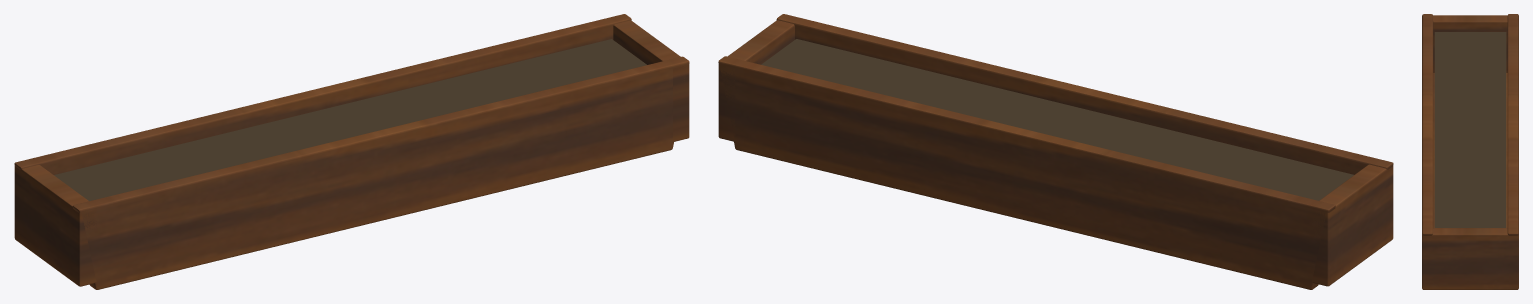
File: CM_PairedWindowBay02_FlowerBox.fbx
The picture shows the model from 3 angles, left to right: view 1: azimuth 30°, elevation 25°; view 2: azimuth 150°, elevation 25°; view 3: azimuth 270°, elevation 25°; orthographic projection. The views are drawn at different scales.
Visible parts, largest first — view 1: CM_PairedWindowBay02_FlowerBox_Geometry; view 2: CM_PairedWindowBay02_FlowerBox_Geometry; view 3: CM_PairedWindowBay02_FlowerBox_Geometry.
Part boxes in pixels (box(x1,y1,x2,y2)): CM_PairedWindowBay02_FlowerBox_Geometry: box(14, 14, 689, 289); CM_PairedWindowBay02_FlowerBox_Geometry: box(718, 14, 1393, 289); CM_PairedWindowBay02_FlowerBox_Geometry: box(1422, 14, 1518, 289).
Size of the model in its own units: 2.1 by 0.28 by 0.39.
